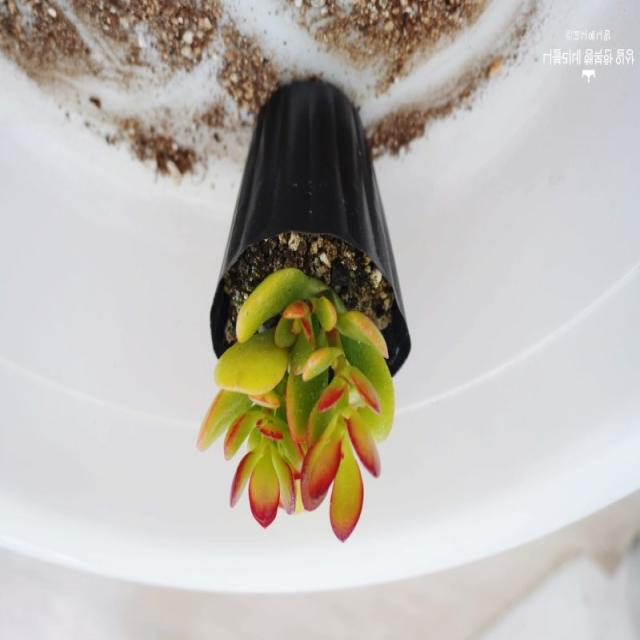Crassula: (275, 290, 395, 541), (199, 269, 315, 527)
